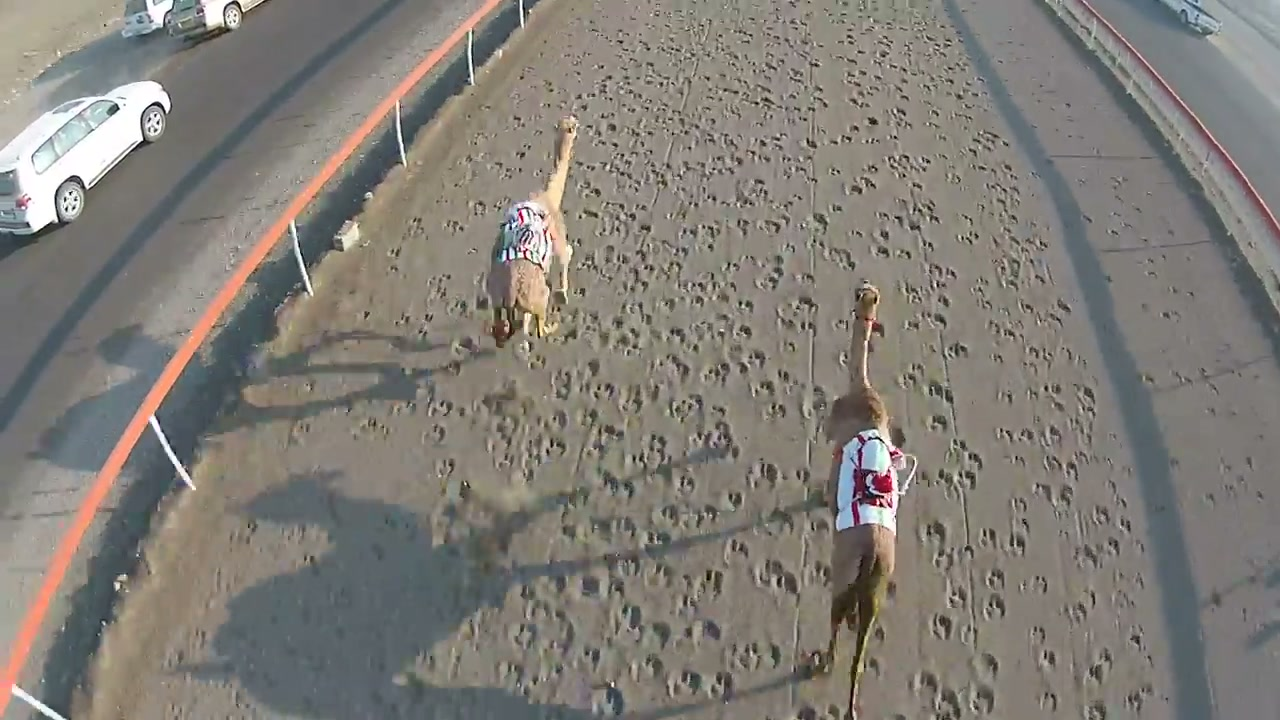animal_footprint: (413, 53, 833, 708), (837, 24, 1080, 717), (900, 38, 1142, 695)
